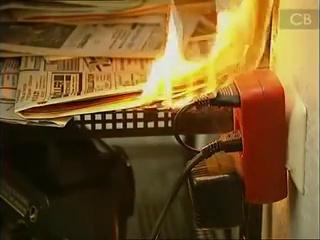Fire: (120, 1, 266, 116)
